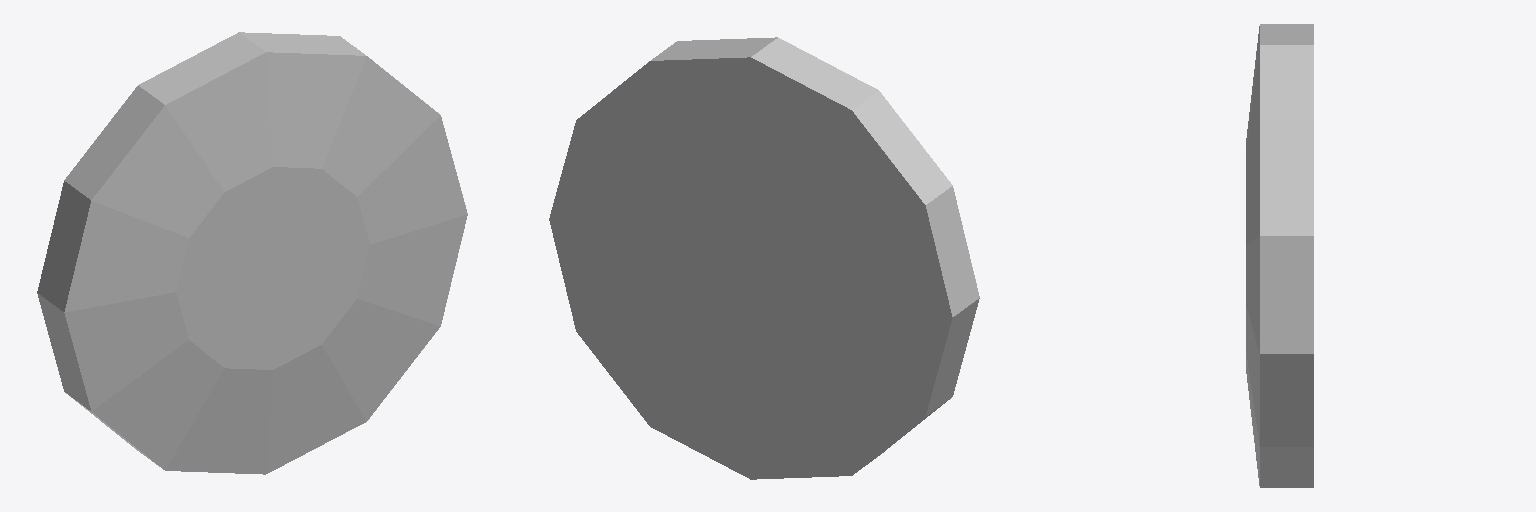
The model's file is Scope2.obj.
3 views of the same model, side by side, from view 1: azimuth 30°, elevation 25°; view 2: azimuth 150°, elevation 25°; view 3: azimuth 270°, elevation 25° (orthographic).
Parts seen in each view (by area): view 1: Cylinder.015; view 2: Cylinder.015; view 3: Cylinder.015.
Part boxes in pixels (x1,y1,x2,y2): Cylinder.015: (37, 32, 467, 474); Cylinder.015: (549, 37, 979, 479); Cylinder.015: (1246, 24, 1313, 487).
Bounding box in the file's own units: 0.0978 × 0.0978 × 0.0144.